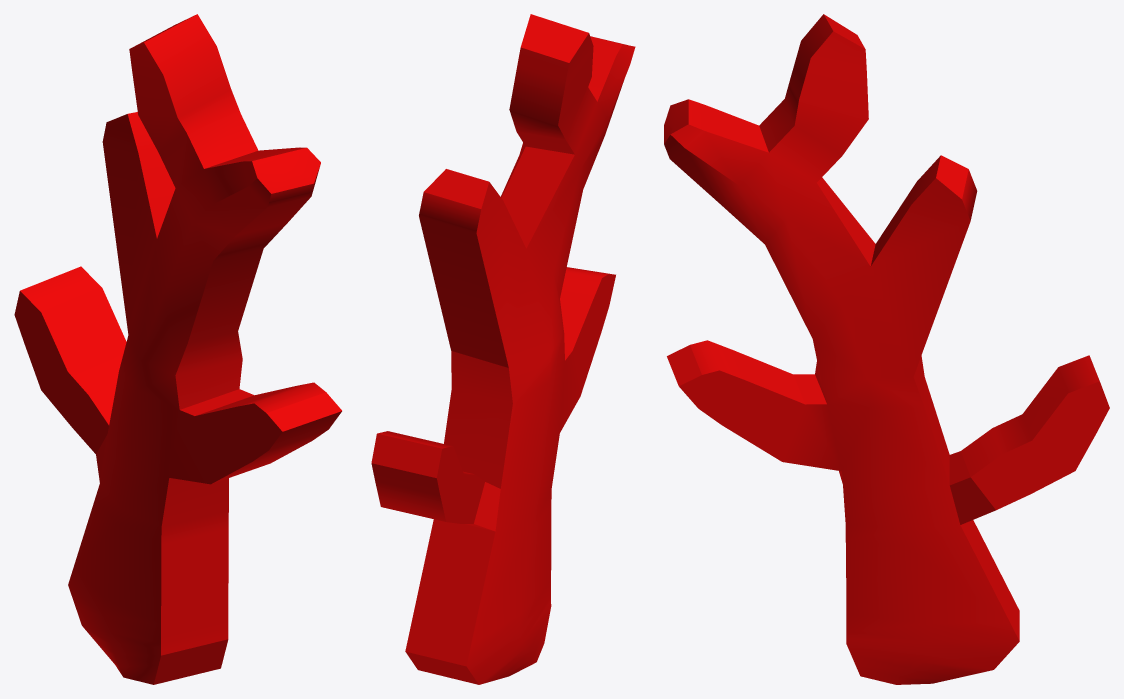
File: CoralRojo.fbx
The picture shows the model from 3 angles, left to right: view 1: azimuth 30°, elevation 25°; view 2: azimuth 150°, elevation 25°; view 3: azimuth 270°, elevation 25°; orthographic projection. The views are drawn at different scales.
Visible parts, largest first — view 1: pCube2; view 2: pCube2; view 3: pCube2.
Boxes of the visible parts, x1,y1,x2,y2 form: pCube2: [14, 14, 341, 684]; pCube2: [371, 14, 635, 684]; pCube2: [664, 14, 1109, 684].
Bounding box in the file's own units: 0.7068 × 3.81 × 2.43.
